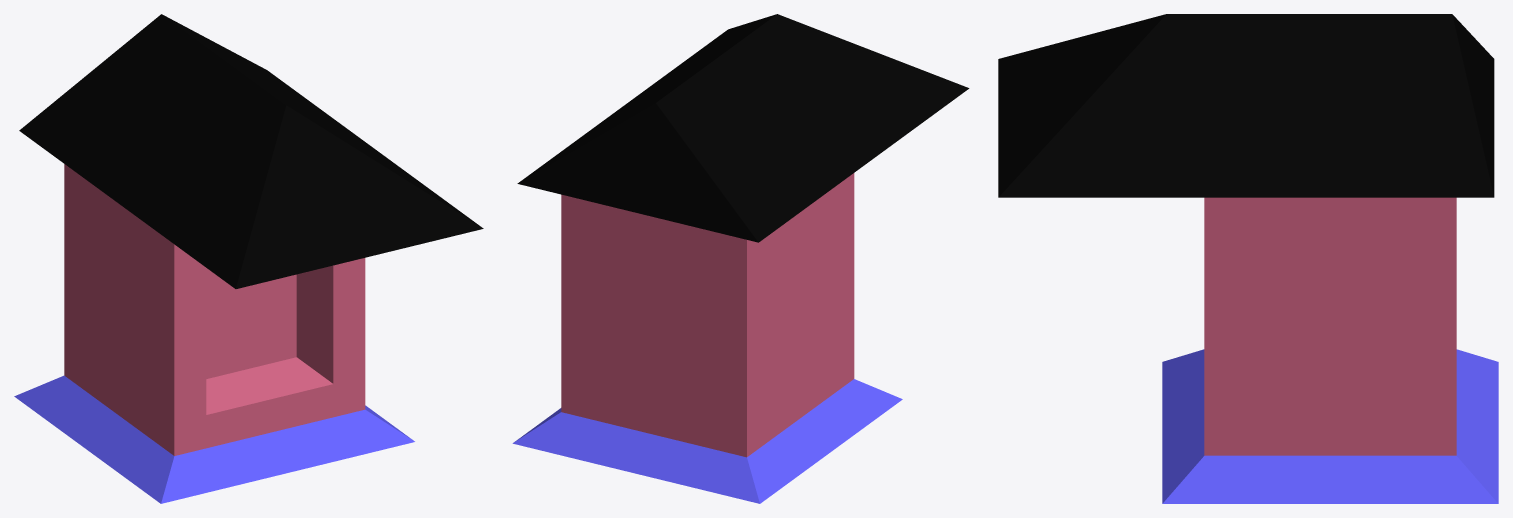
Rendered from Temple.fbx.
3 views of the same model, side by side, from view 1: azimuth 30°, elevation 25°; view 2: azimuth 150°, elevation 25°; view 3: azimuth 270°, elevation 25° (orthographic). The views are drawn at different scales.
Visible parts, largest first — view 1: Temple; view 2: Temple; view 3: Temple.
Part boxes in pixels (x1,y1,x2,y2): Temple: (14,14,483,503); Temple: (512,14,969,503); Temple: (998,14,1498,503).
Bounding box in the file's own units: 2 × 2.75 × 2.98.
